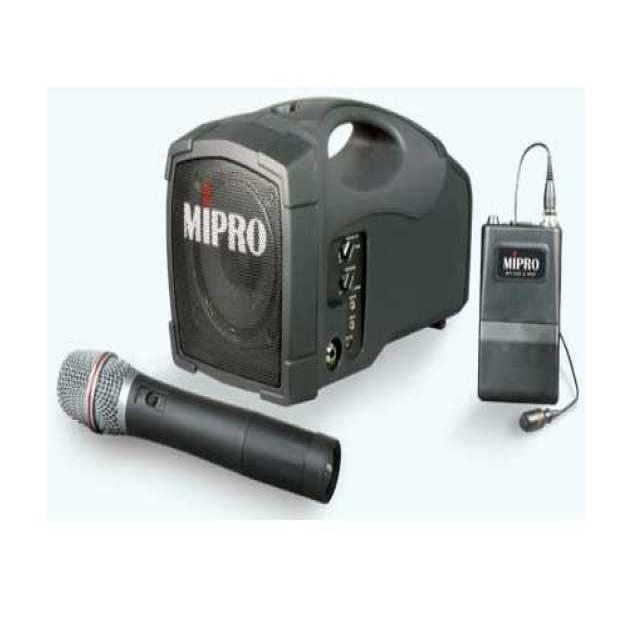microphone: (54, 352, 349, 530)
